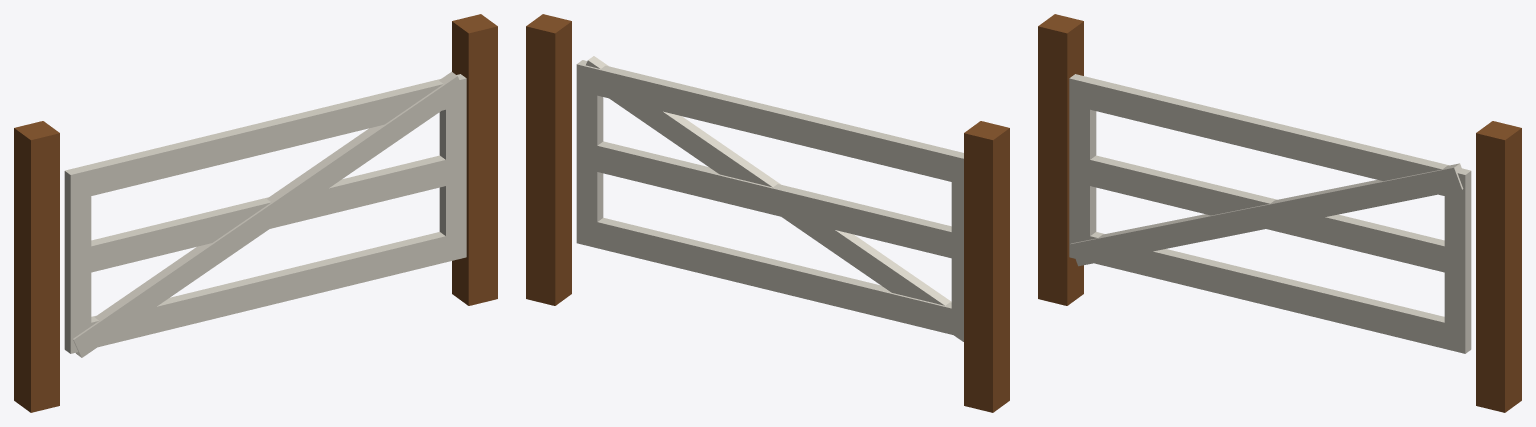
Rendered from fence_gate.glb.
3 renders of one model, left to right at view 1: azimuth 30°, elevation 25°; view 2: azimuth 150°, elevation 25°; view 3: azimuth 330°, elevation 25°, orthographic.
Parts seen in each view (by area): view 1: fence_gate; view 2: fence_gate; view 3: fence_gate.
Boxes of the visible parts, left/top/right/bottom form: fence_gate: left=14, top=14, right=497, bottom=412; fence_gate: left=526, top=14, right=1009, bottom=412; fence_gate: left=1038, top=14, right=1521, bottom=412.
Bounding box in the file's own units: 2.24 × 1.25 × 0.185.
